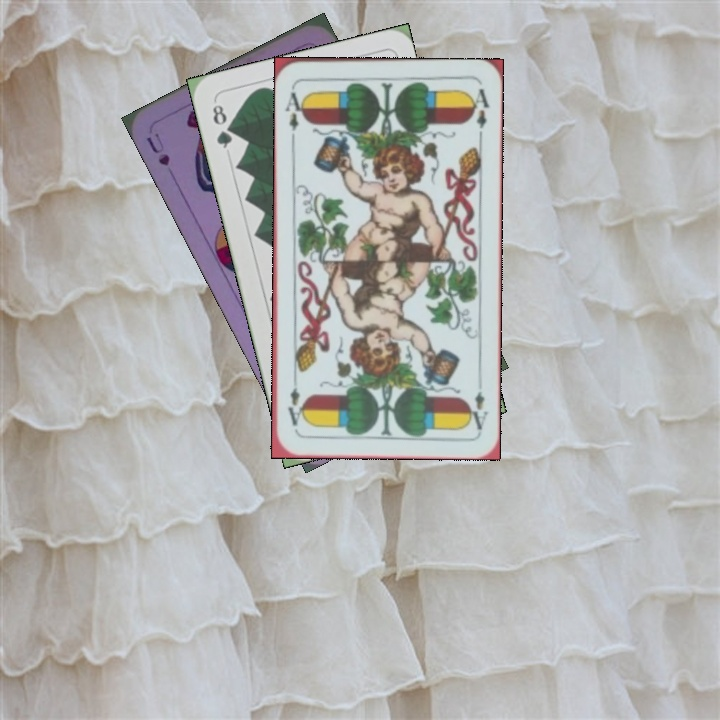EA: (281, 88, 308, 133), (465, 387, 491, 432)
G8: (208, 100, 236, 151)
SU: (142, 129, 173, 169)
